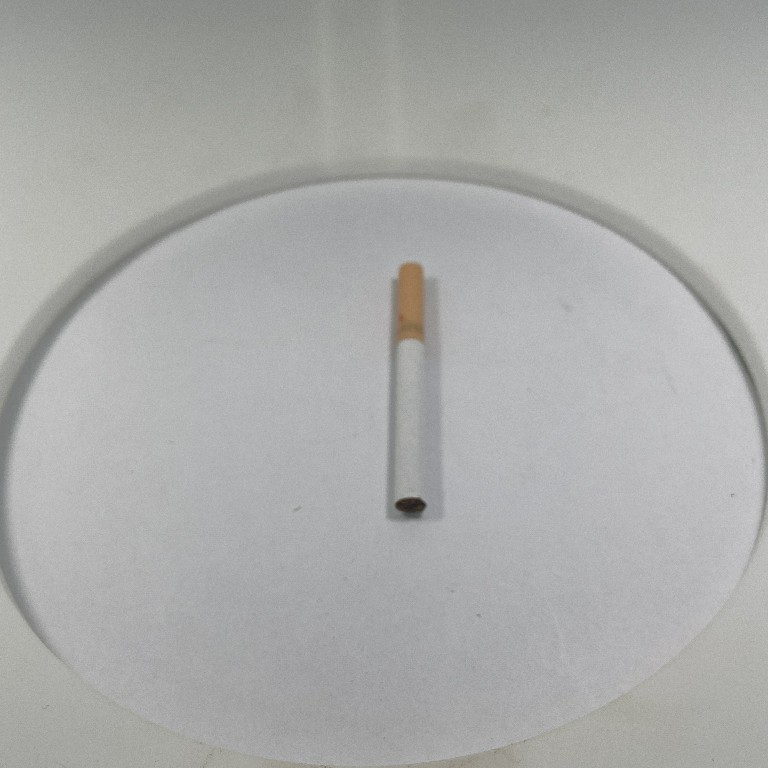cigarette: (385, 257, 454, 529)
